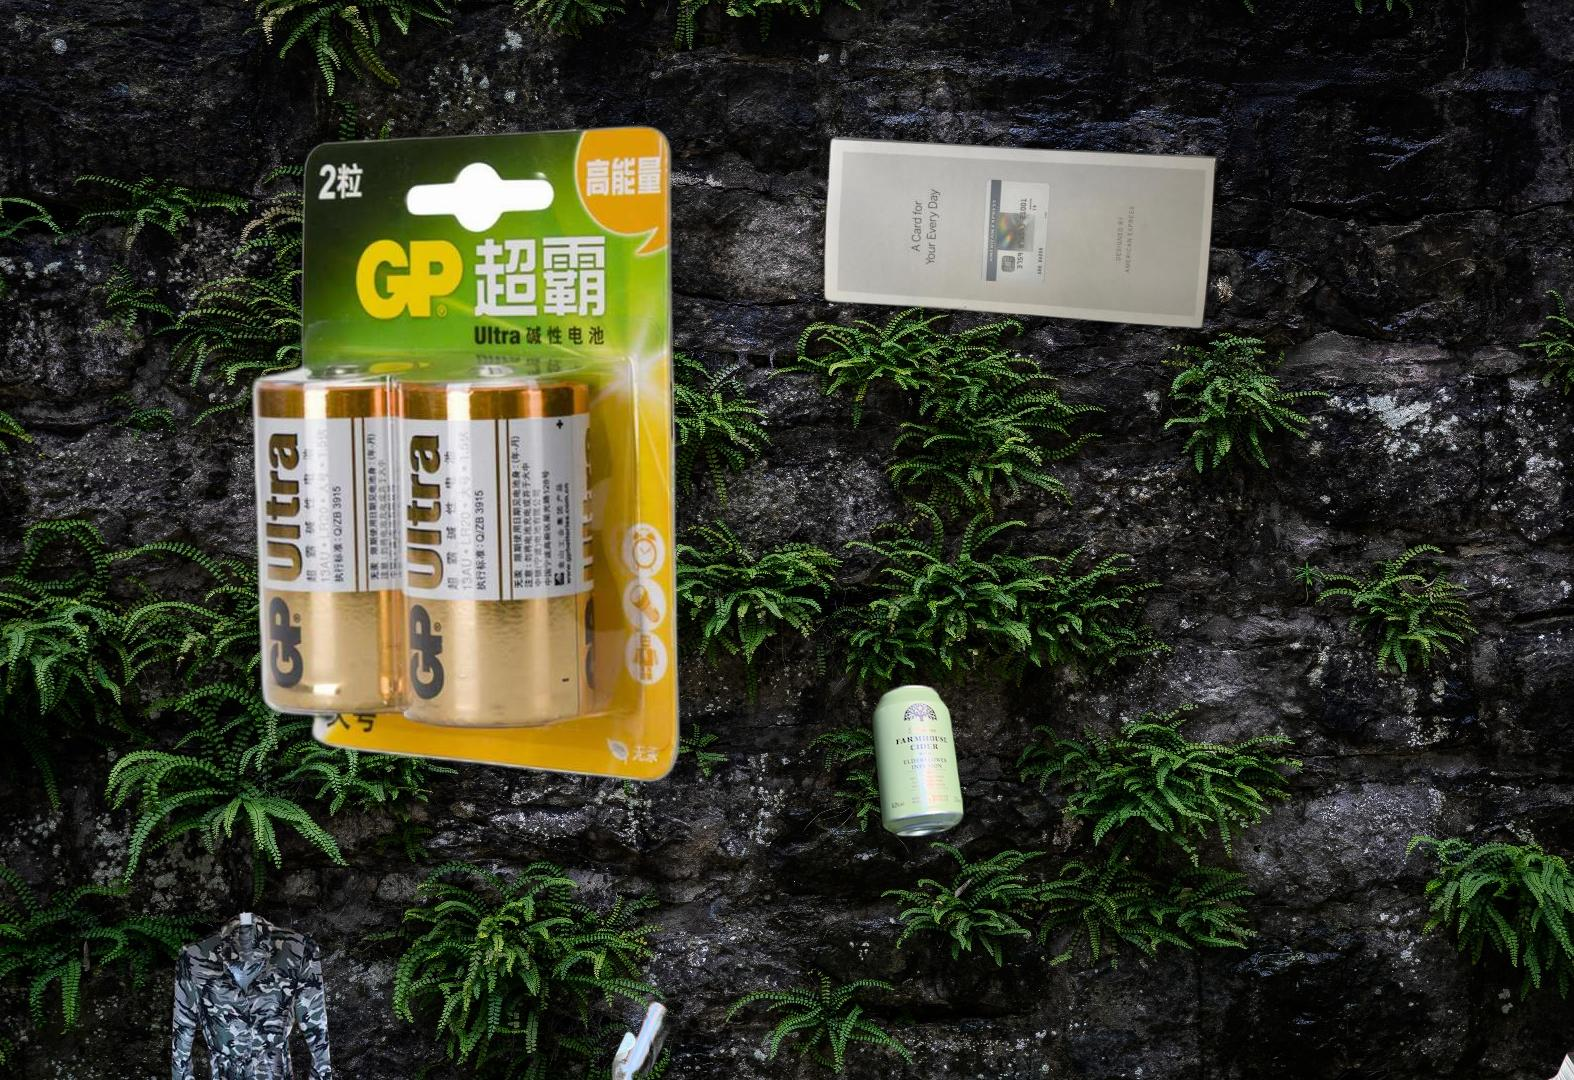battery: (244, 118, 687, 791)
clothes: (167, 889, 341, 1080), (1401, 1047, 1574, 1080)
glass: (594, 994, 678, 1080)
metal-cans: (867, 678, 1175, 843)
paper: (819, 133, 1224, 332)
